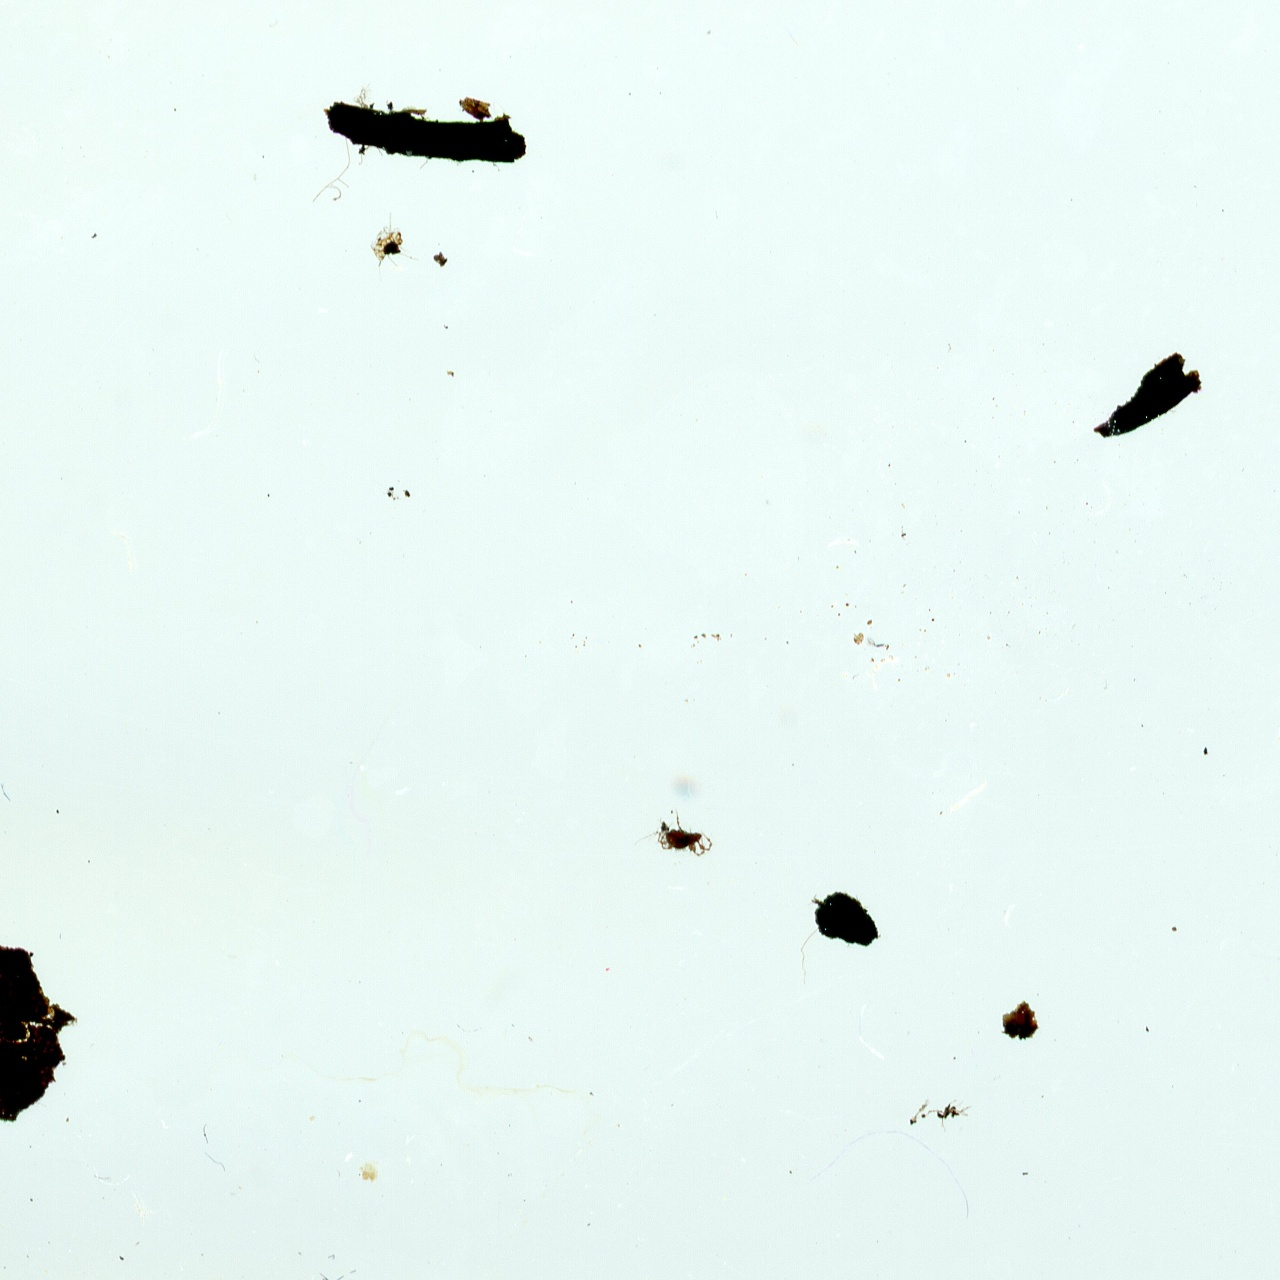arthropod: (653, 809, 716, 865)
